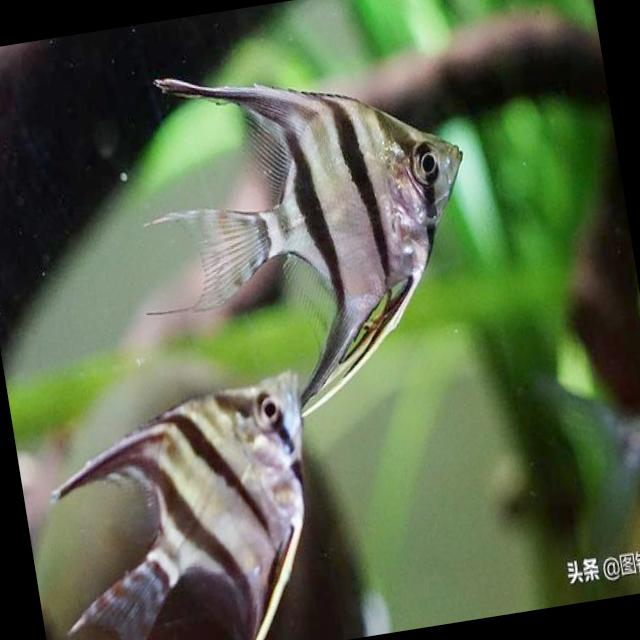AngelFish: (153, 28, 500, 422), (36, 371, 342, 640)
